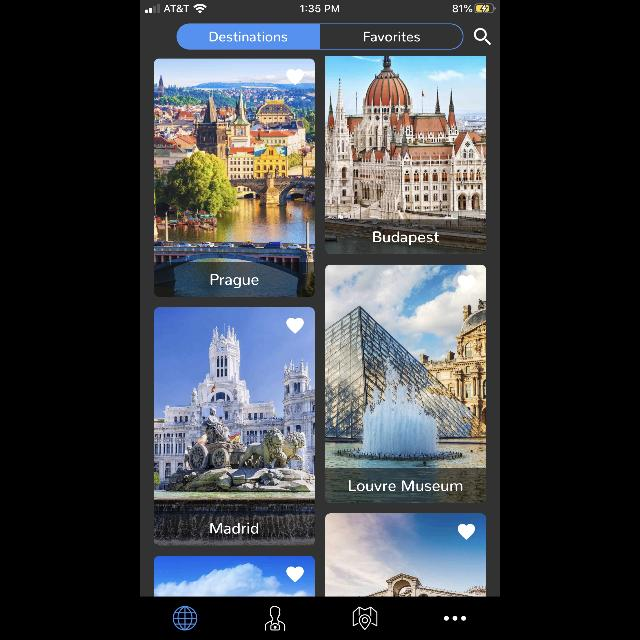icon: (352, 606, 378, 630), (173, 606, 197, 630), (265, 606, 285, 630), (474, 28, 491, 46), (286, 566, 304, 582), (286, 318, 304, 334), (286, 69, 304, 85), (458, 524, 474, 540), (458, 275, 474, 291), (444, 616, 466, 620)
image: (326, 265, 486, 503), (154, 308, 314, 546), (155, 60, 315, 296), (326, 56, 486, 254), (326, 514, 486, 596), (154, 556, 314, 596)
text: (349, 481, 463, 492), (373, 231, 439, 245), (212, 274, 258, 288), (210, 522, 258, 534)
textbutton: (321, 24, 464, 50), (178, 24, 320, 50)
uppertaskbar: (140, 0, 500, 14)
